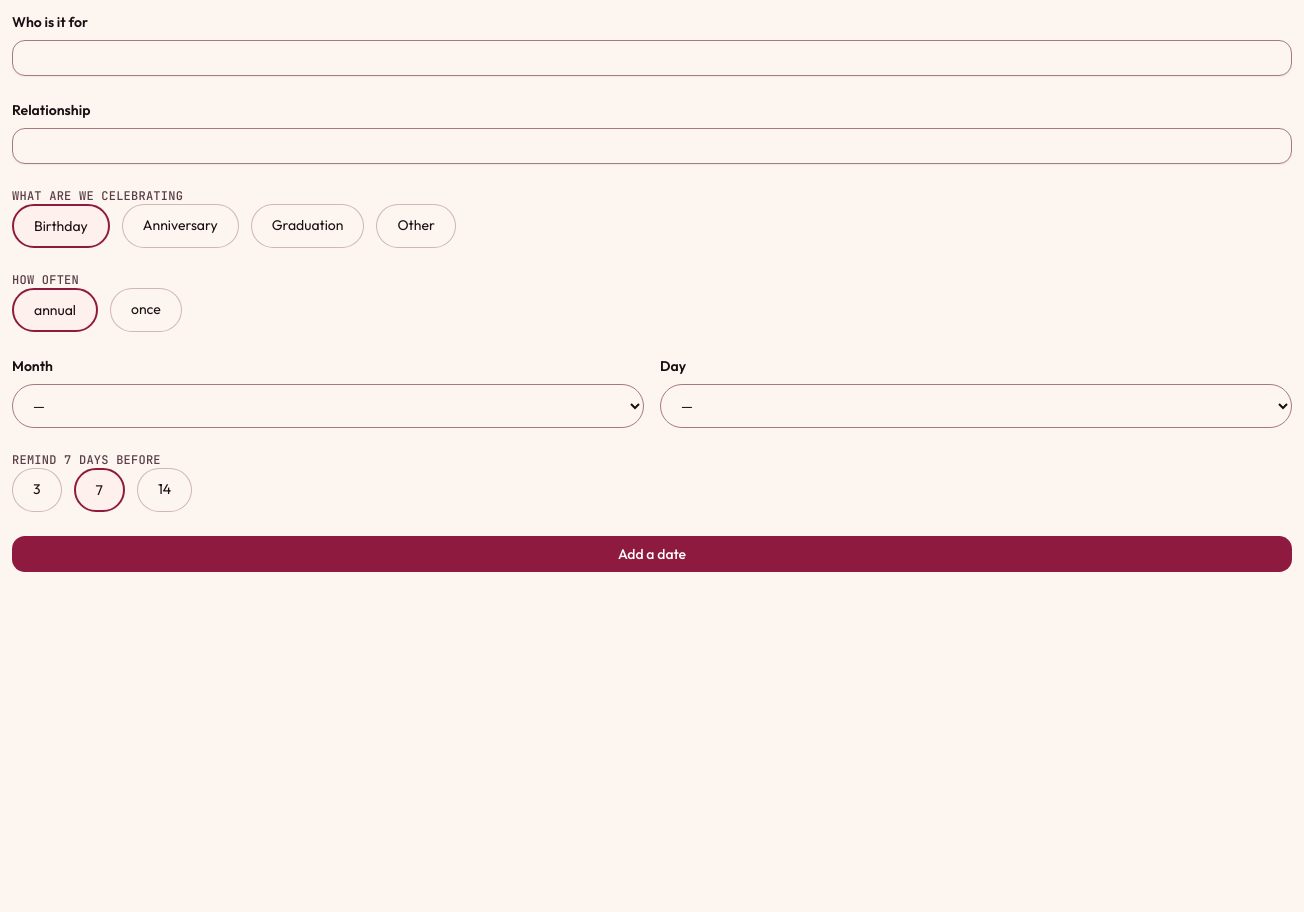
OccasionForm › surfaces a validation failure without clearing the form
This screenshot has width=1304, height=912.
Type "Mum" into the field labelled "Who is it for" at (652, 58), box [12,40,1292,76]
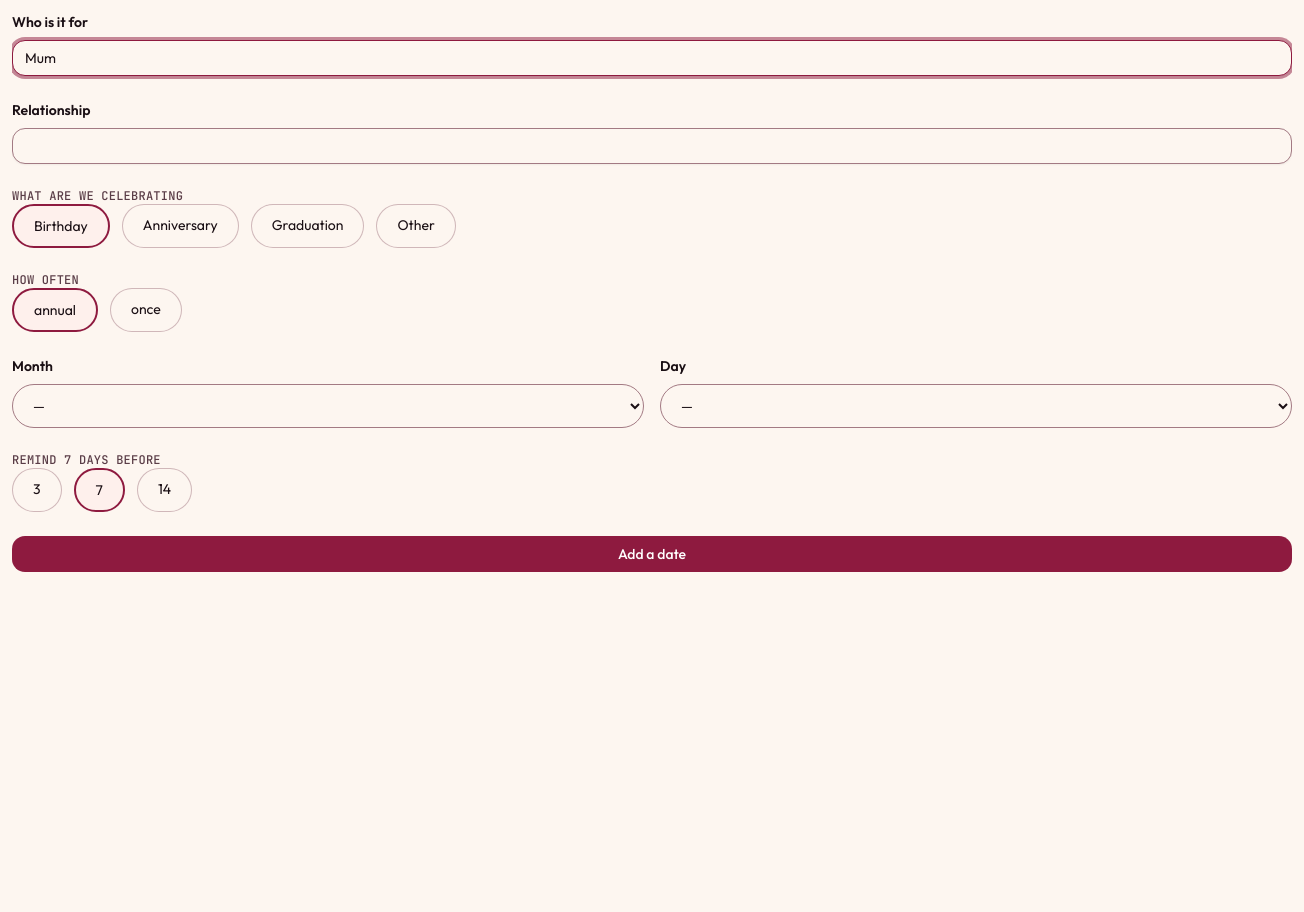
Click the button "Add a date" at (652, 554), box [12,536,1292,572]
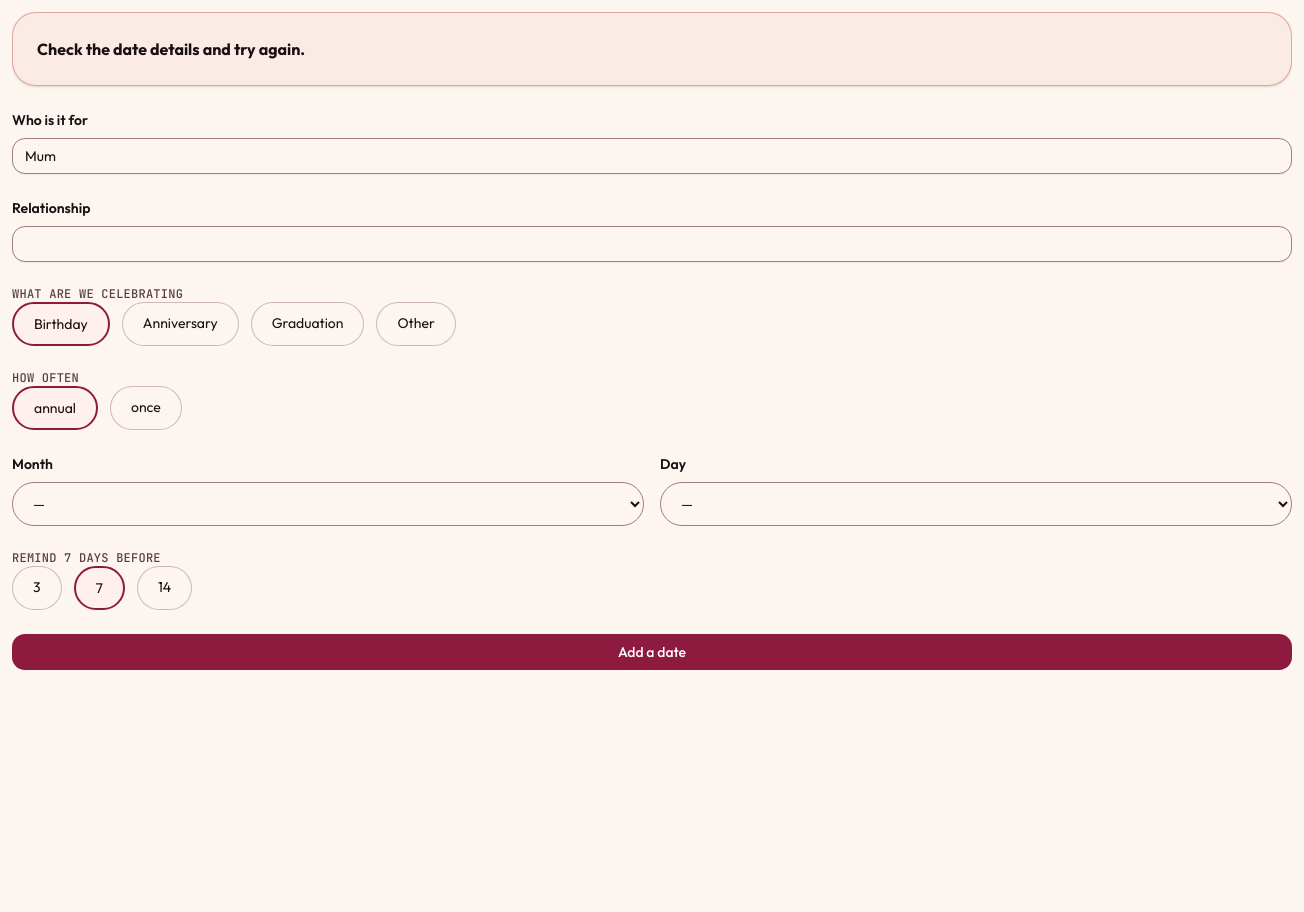
Expected: the message "Check the date details and try again." is shown, [12,12,1292,86]
